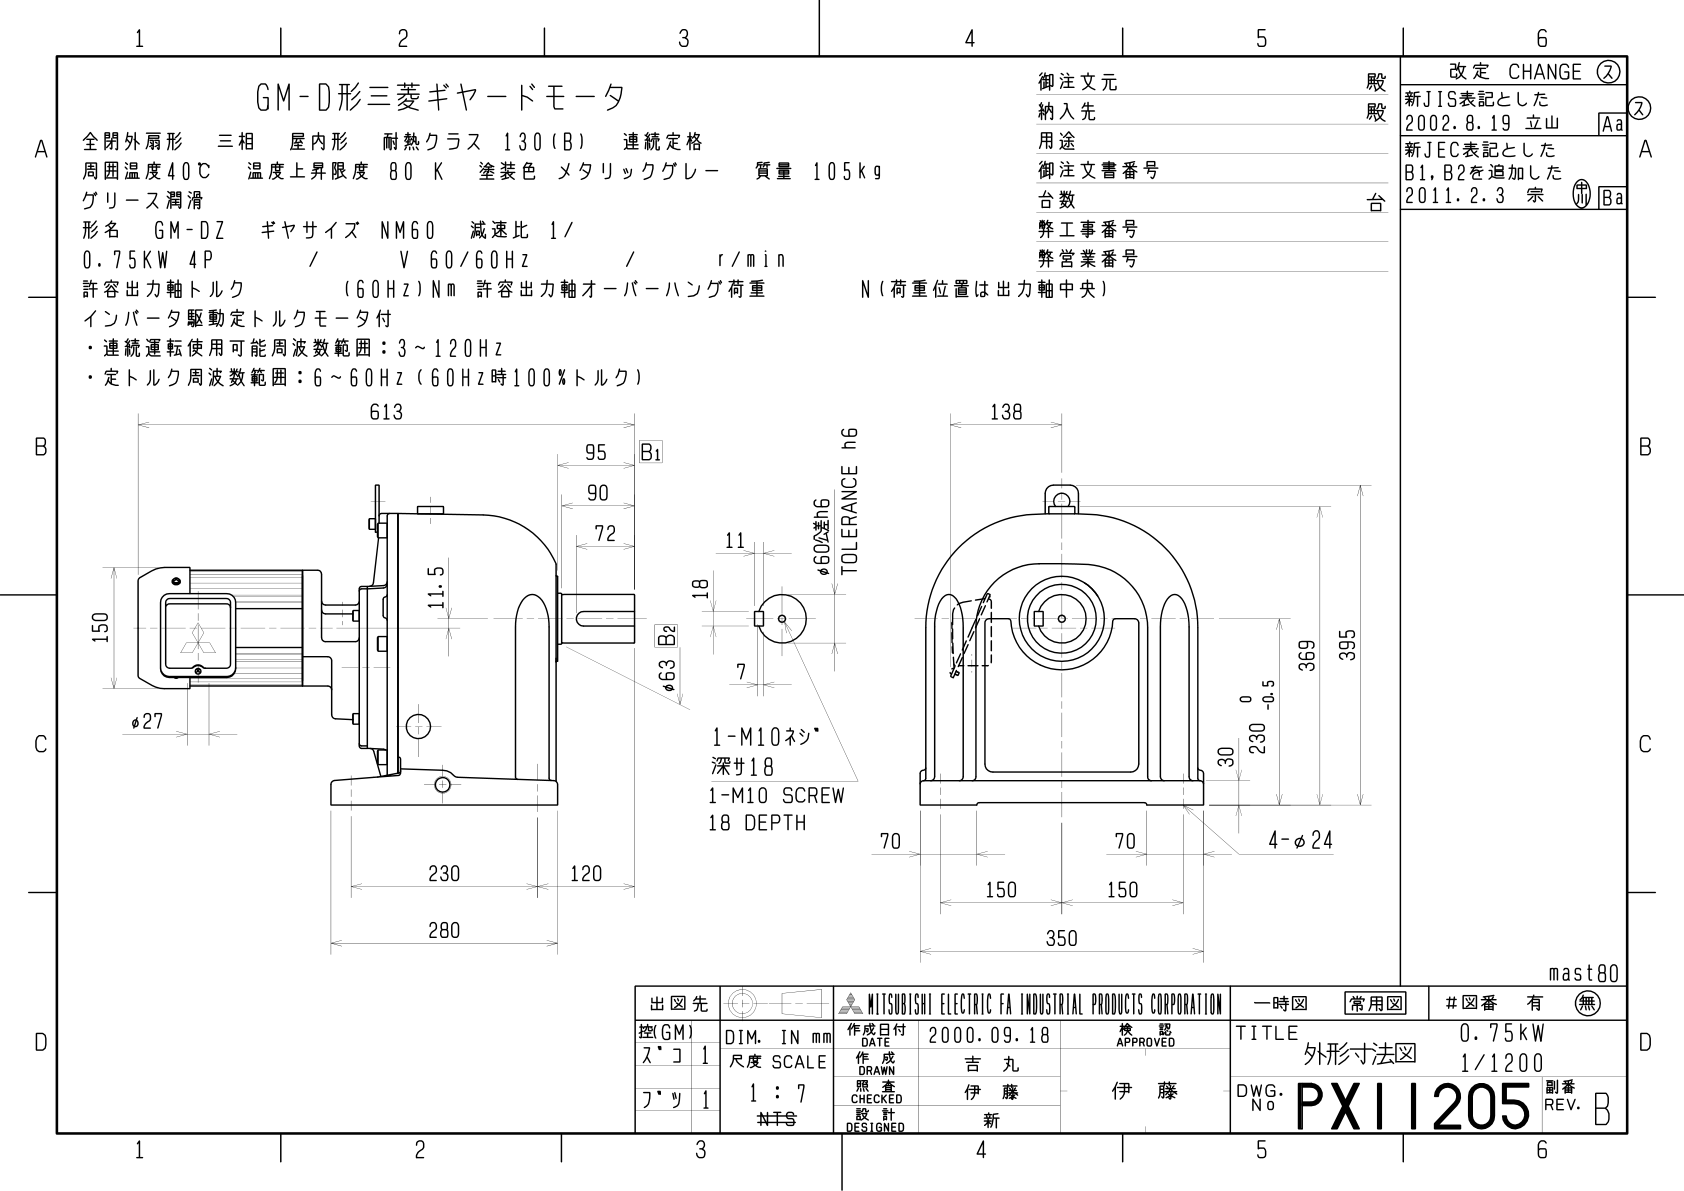GM_D_インバータ屋内_三相_脚: (15, 4, 1684, 1191)
